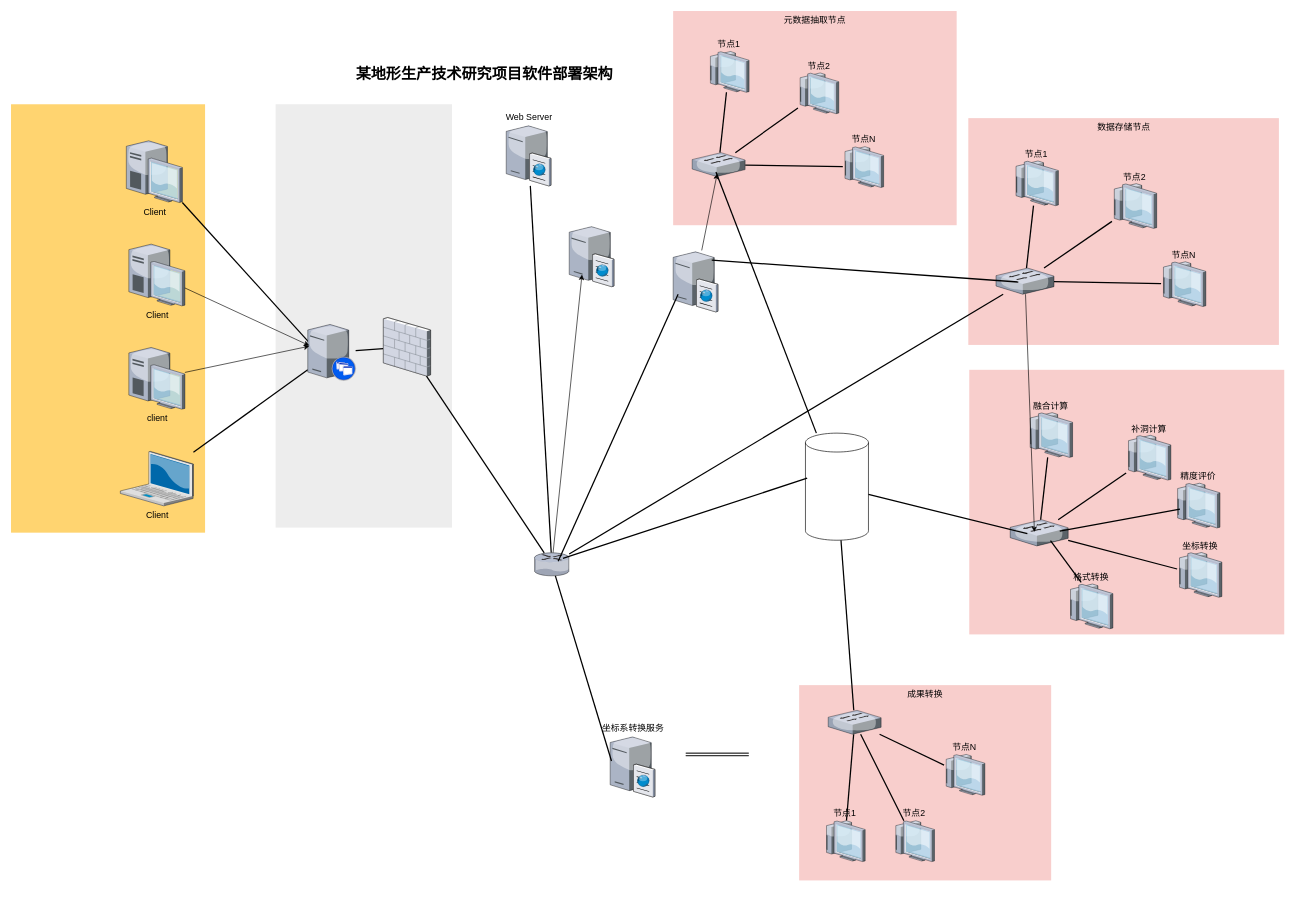
The diagram is 1295 pixels wide and 910 high, and some of its shapes have lost their labels. Each missing label, with the box of its shape:
元数据: (673, 250, 718, 312)
客户端: (11, 104, 205, 532)
消息队列: (805, 432, 868, 540)
算法集群: (969, 369, 1284, 634)
系统管理服务: (569, 225, 614, 286)
防火墙: (275, 104, 452, 527)
